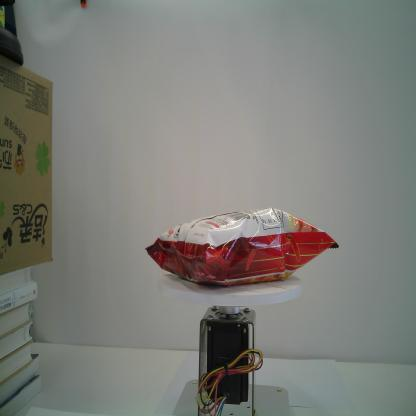Puffed Food: (145, 206, 340, 287)
